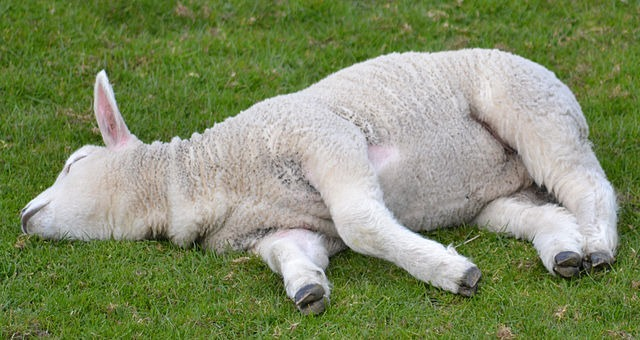resting: (19, 47, 620, 312)
